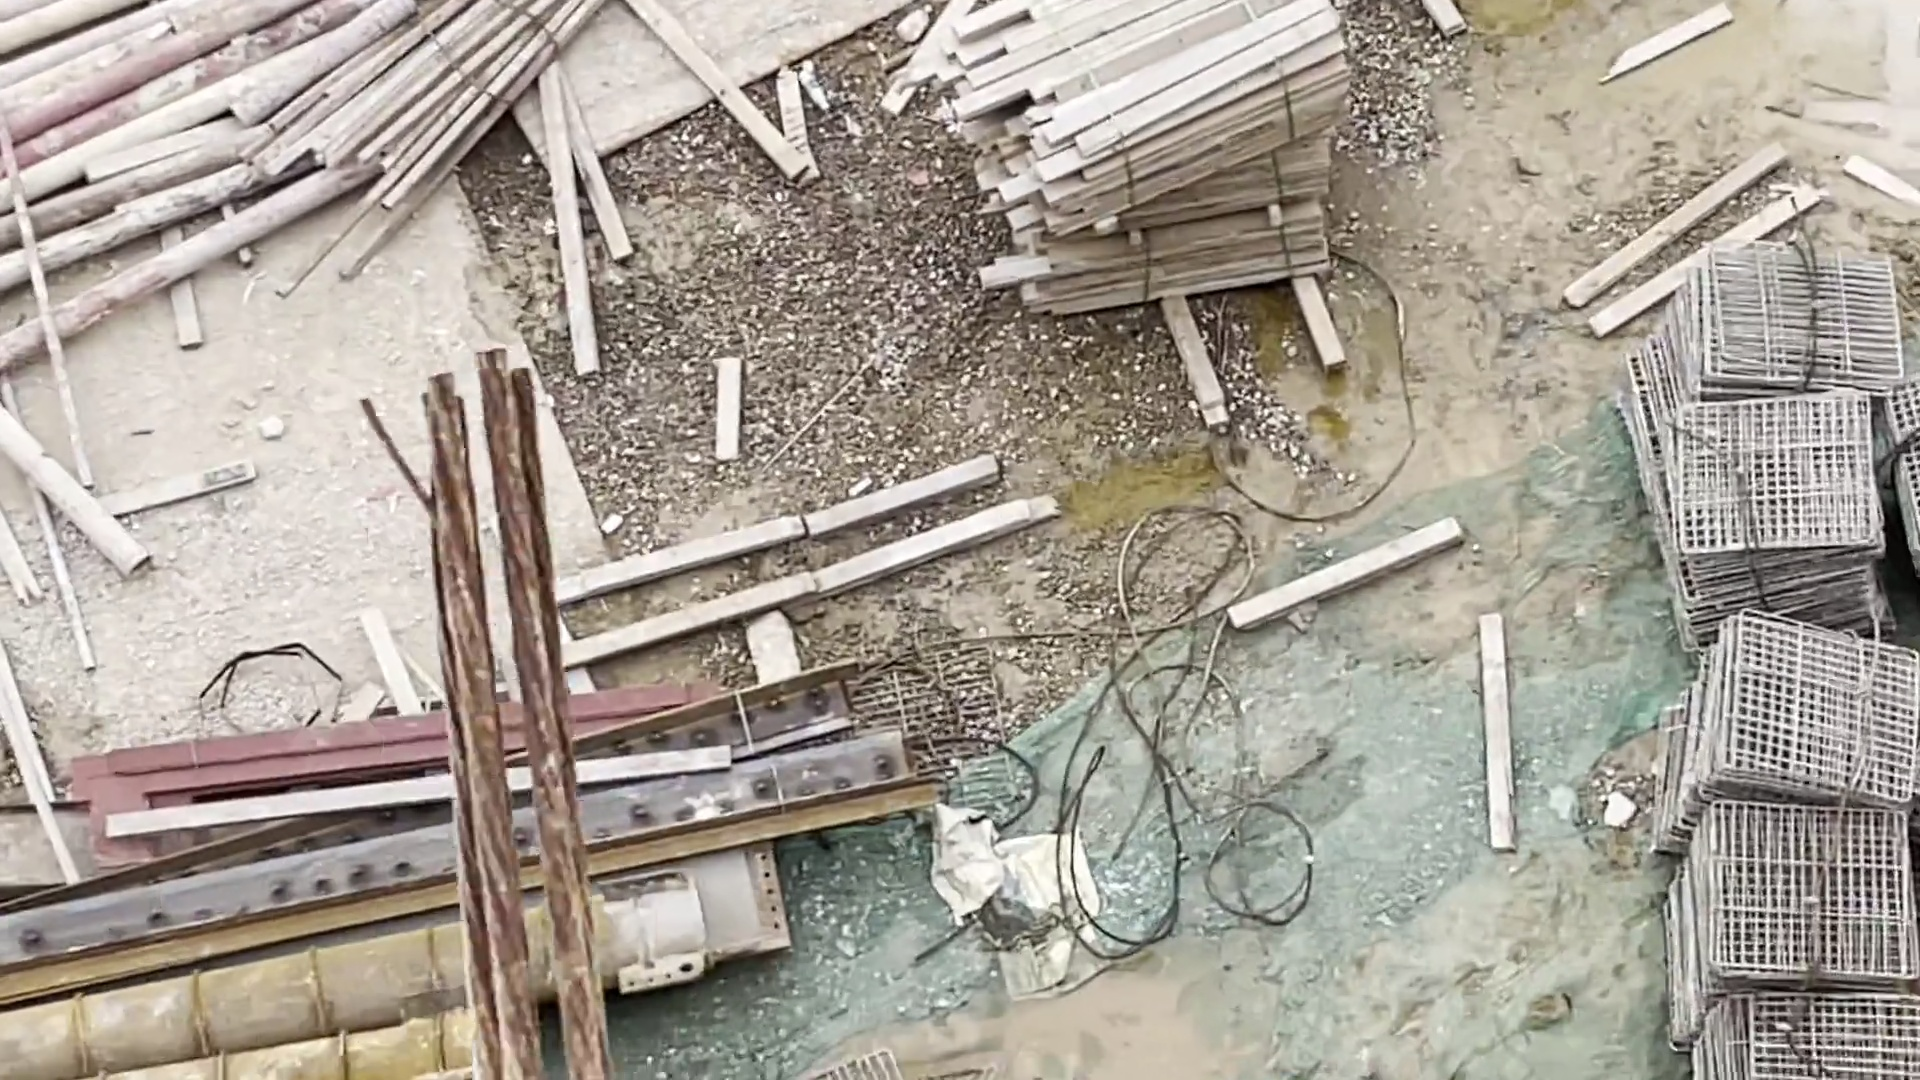wood: (942, 1, 1335, 310), (278, 1, 593, 236)
